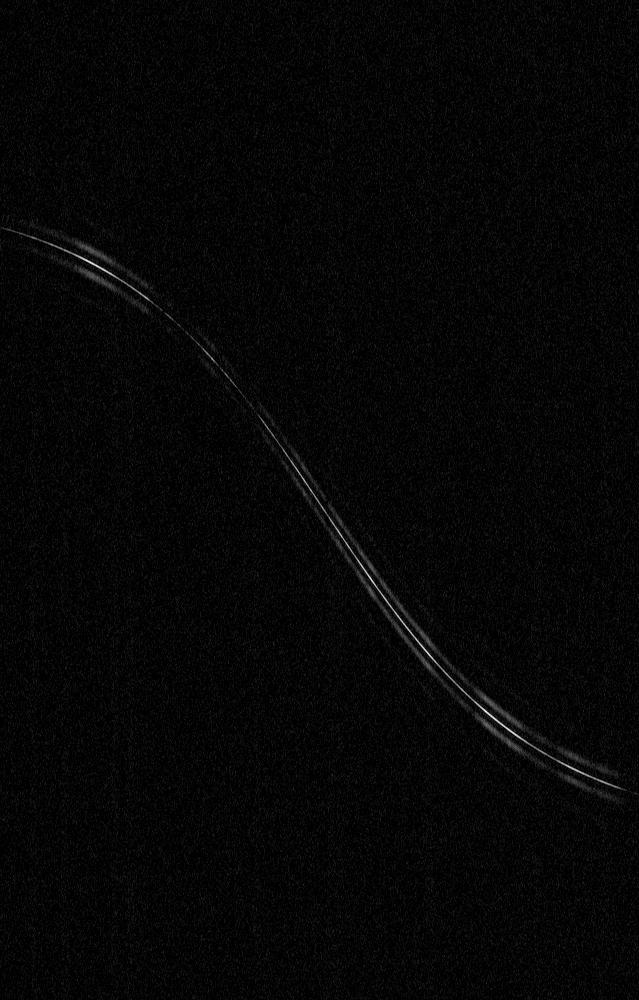signal: (0, 0, 638, 999)
